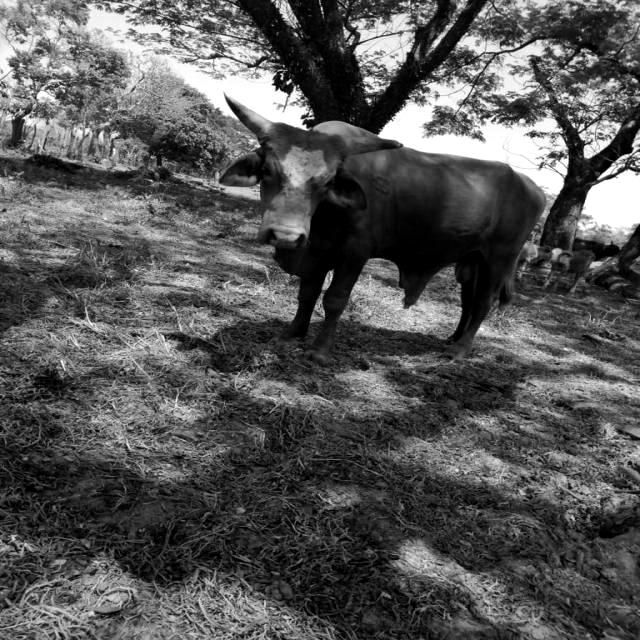COW: (220, 96, 544, 361)
